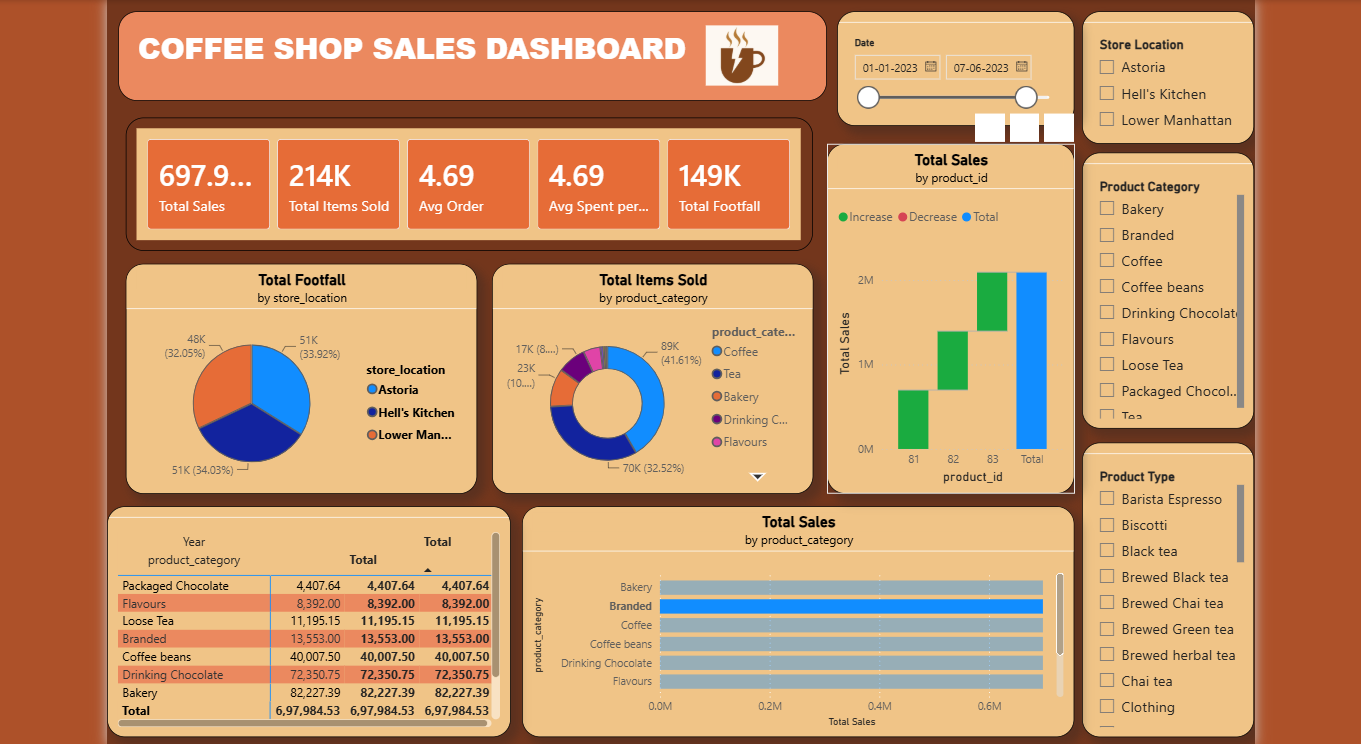

The page's visual inventory and layout, read from the dashboard file:
{"tool":"powerbi","page":{"name":"Overview","canvas":[1280,832],"ordinal":0},"visuals":[{"type":"slicer","fields":{"Values":["dim Store.store_location"]},"box":[1087.4,12.5,192.4,147.8],"z":0},{"type":"slicer","fields":{"Values":["dim product.product_category"]},"box":[1087.4,170.1,192.4,308.1],"z":1000},{"type":"slicer","fields":{"Values":["dim product.product_type"]},"box":[1087.4,493.5,192.4,329],"z":2000},{"type":"donutChart","fields":{"Category":["Fact Sale.product_category"],"Y":["Fact Sale.Total Items Sold"]},"box":[429.4,294.2,358.3,256.5],"z":3000},{"type":"pieChart","fields":{"Y":["Fact Sale.Total Footfall"],"Series":["dim Store.store_location"]},"box":[20.9,294.2,391.7,256.5],"z":4000},{"type":"clusteredBarChart","fields":{"Category":["dim product.product_category"],"Y":["Fact Sale.Total Sales"]},"box":[462.8,564.6,616.2,257.9],"z":5000},{"type":"pivotTable","fields":{"Rows":["Fact Sale.product_category"],"Columns":["Dim Calendar.Date.Variation.Date Hierarchy.Year","Dim Calendar.Date.Variation.Date Hierarchy.Quarter","Dim Calendar.Date.Variation.Date Hierarchy.Month","Dim Calendar.Date.Variation.Date Hierarchy.Day"],"Values":["Fact Sale.Total Sales"]},"box":[0,564.6,450.3,257.9],"z":6000},{"type":"textbox","box":[12.5,12.5,790.5,100.4],"z":7000},{"type":"cardVisual","fields":{"Data":["Fact Sale.Total Sales","Fact Sale.Total Items Sold","Fact Sale.Avg Order","Fact Sale.Avg Spent per Order","Fact Sale.Total Footfall"]},"box":[20.9,131,766.8,149.2],"z":8000},{"type":"slicer","fields":{"Values":["Dim Calendar.Date"]},"box":[814.2,12.5,264.9,128.3],"z":8001},{"type":"waterfallChart","fields":{"Y":["Fact Sale.Total Sales"],"Category":["dim Store.product_id"]},"box":[803,160.3,276,390.4],"z":8002},{"type":"image","box":[667.8,25.1,80.9,73.9],"z":8003}]}

Visuals, with their boxes on the page's 1280x832 design canvas (x1, y1, x2, y2). These are canvas units, not pixel positions in the 1361x744 screenshot, which may show the page scaled, cropped or inside an application window:
slicer - dim Store.store_location: BBox(1087, 12, 1280, 160)
slicer - dim product.product_category: BBox(1087, 170, 1280, 478)
slicer - dim product.product_type: BBox(1087, 494, 1280, 822)
donutChart - Fact Sale.product_category x Fact Sale.Total Items Sold: BBox(429, 294, 788, 551)
pieChart - Fact Sale.Total Footfall x dim Store.store_location: BBox(21, 294, 413, 551)
clusteredBarChart - dim product.product_category x Fact Sale.Total Sales: BBox(463, 565, 1079, 822)
pivotTable - Fact Sale.product_category x Dim Calendar.Date.Variation.Date Hierarchy.Year: BBox(0, 565, 450, 822)
textbox: BBox(12, 12, 803, 113)
cardVisual - Fact Sale.Total Sales x Fact Sale.Total Items Sold: BBox(21, 131, 788, 280)
slicer - Dim Calendar.Date: BBox(814, 12, 1079, 141)
waterfallChart - Fact Sale.Total Sales x dim Store.product_id: BBox(803, 160, 1079, 551)
image: BBox(668, 25, 749, 99)
